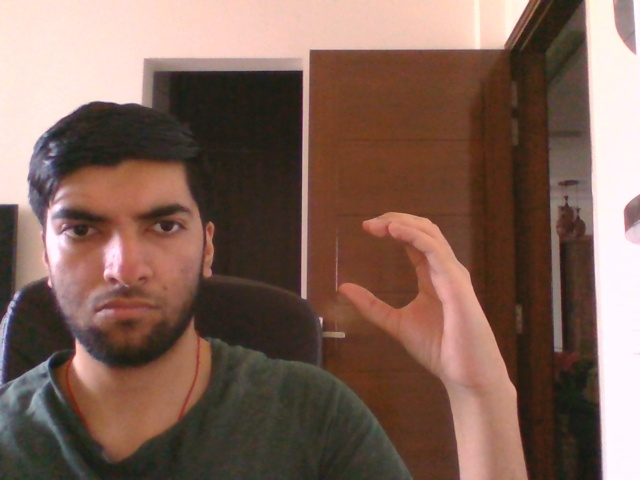LetterC: (336, 210, 516, 393)
